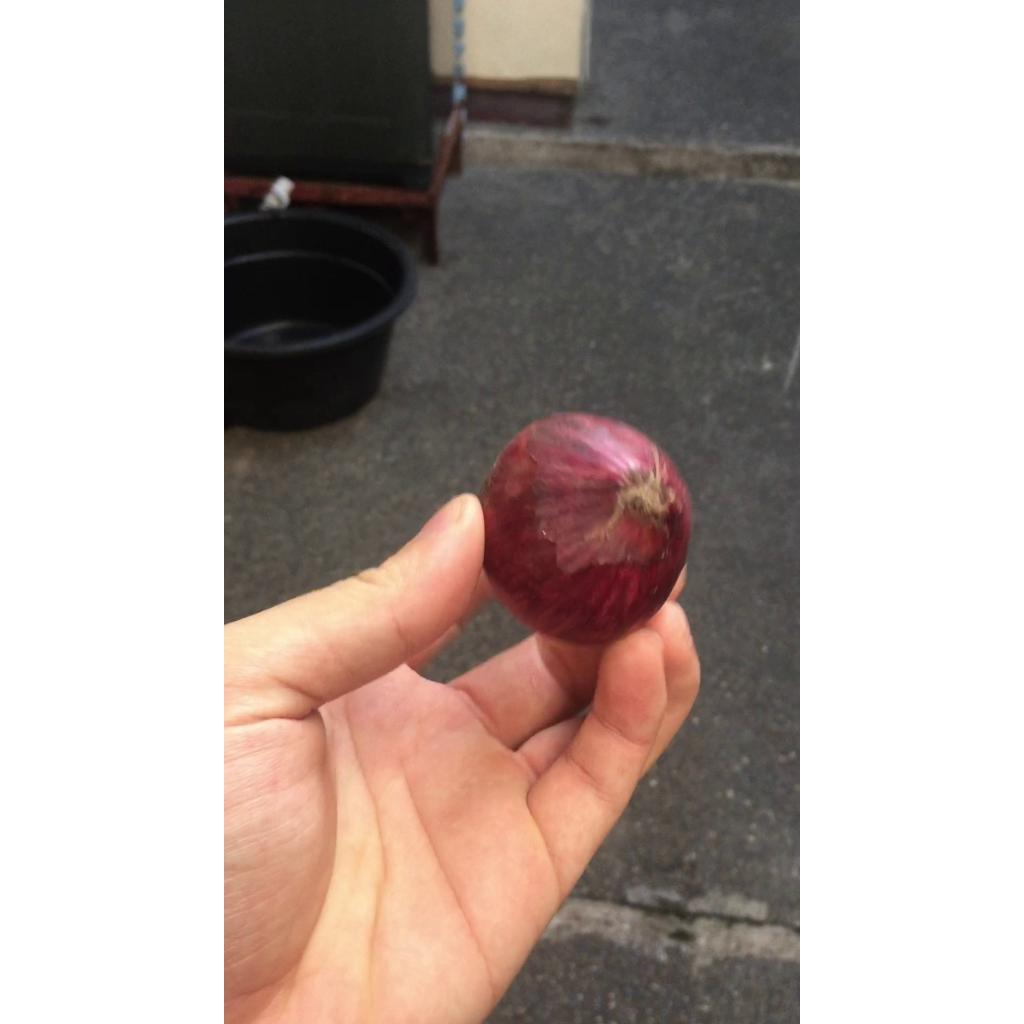Onion: (479, 413, 692, 644)
